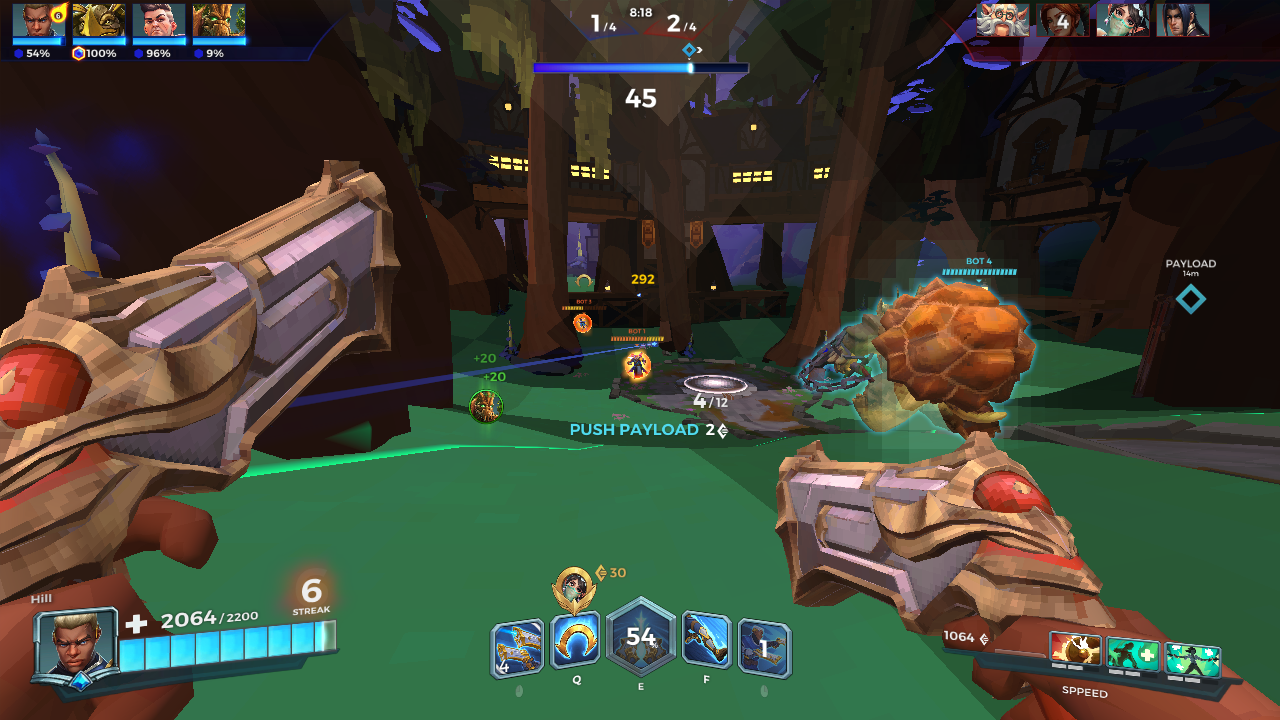model: (626, 346, 649, 384), (573, 313, 589, 333)
